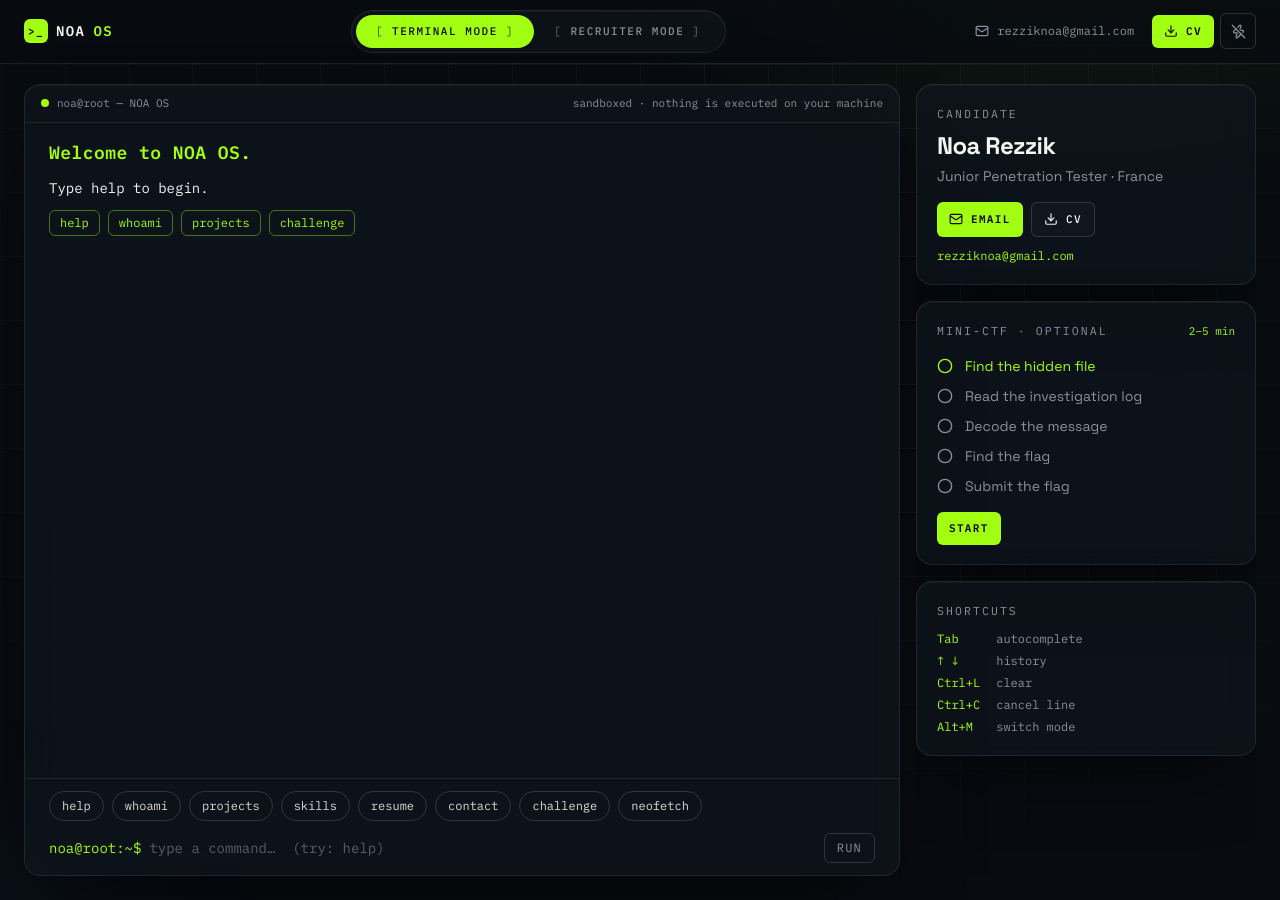
Scenario: terminal UI › navigates the filesystem and updates the prompt
This screenshot has width=1280, height=900.
In the field named "Terminal command input": (483, 848) [149,837,816,859], type "cd skills"
Then press Enter
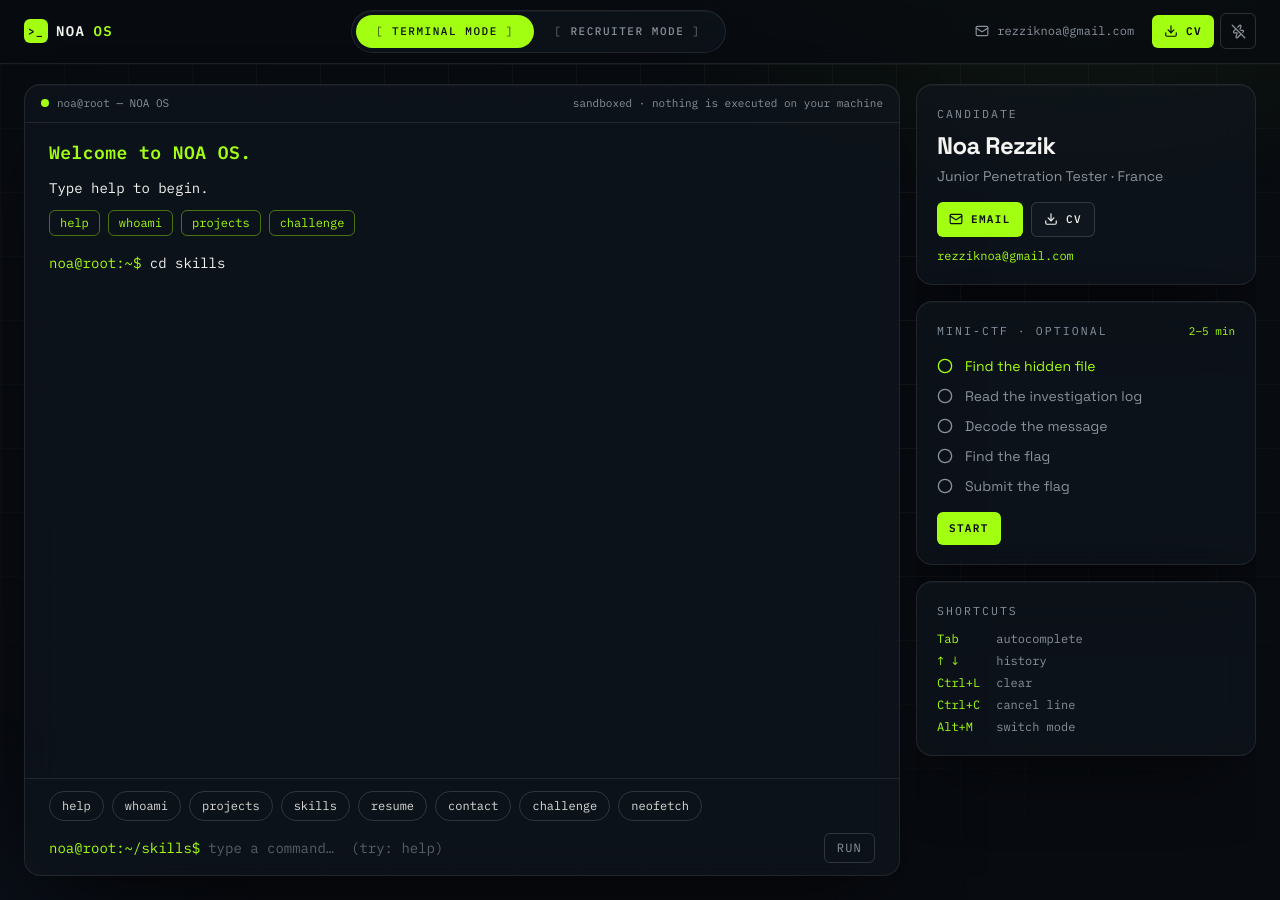
Expected: the text "noa@root:~/skills$" is shown, [49,839,200,857]
In the field named "Terminal command input": (512, 848) [208,837,816,859], type "cat linux.txt"
Then press Enter
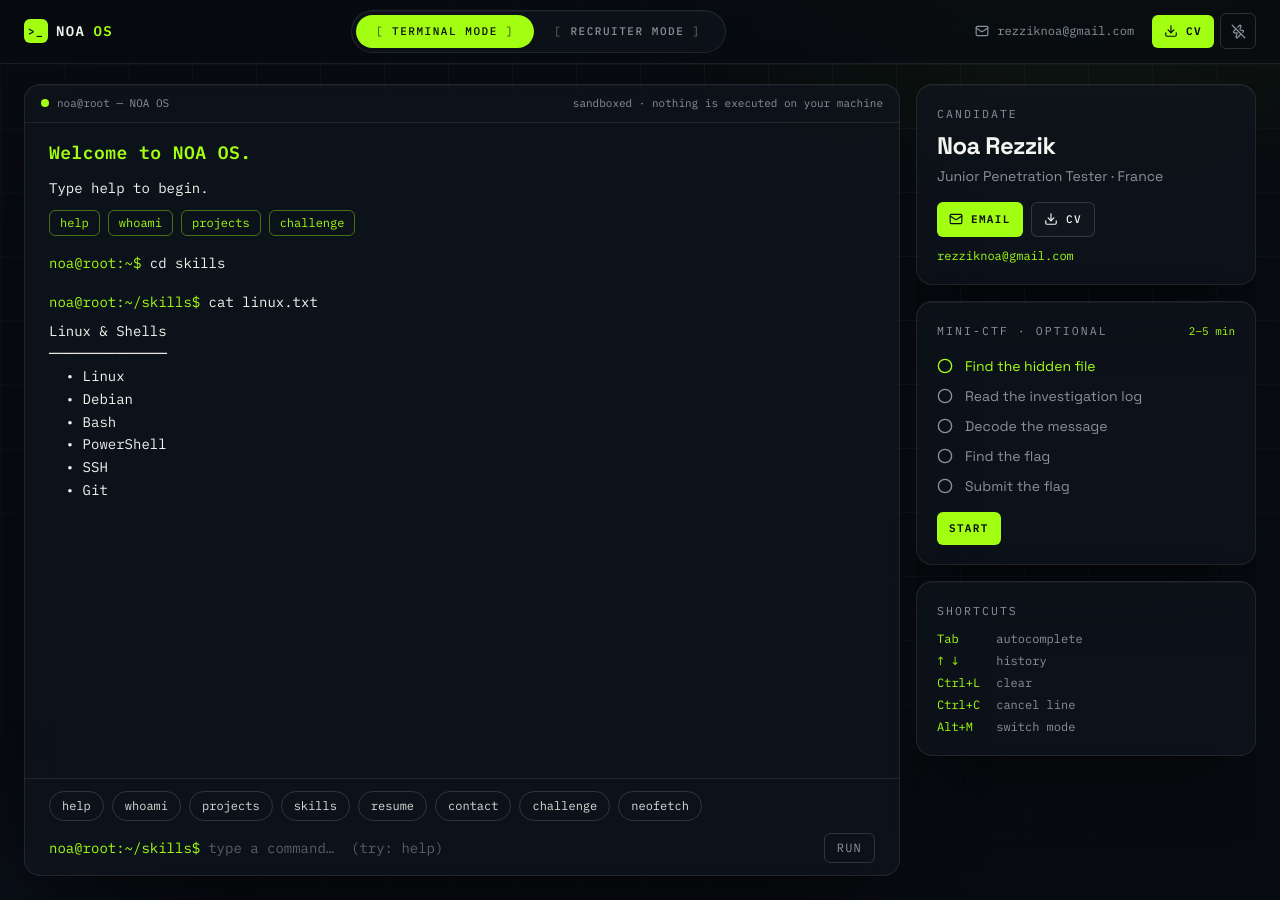
Expected: the text "Debian" is shown, [49,322,167,499]
